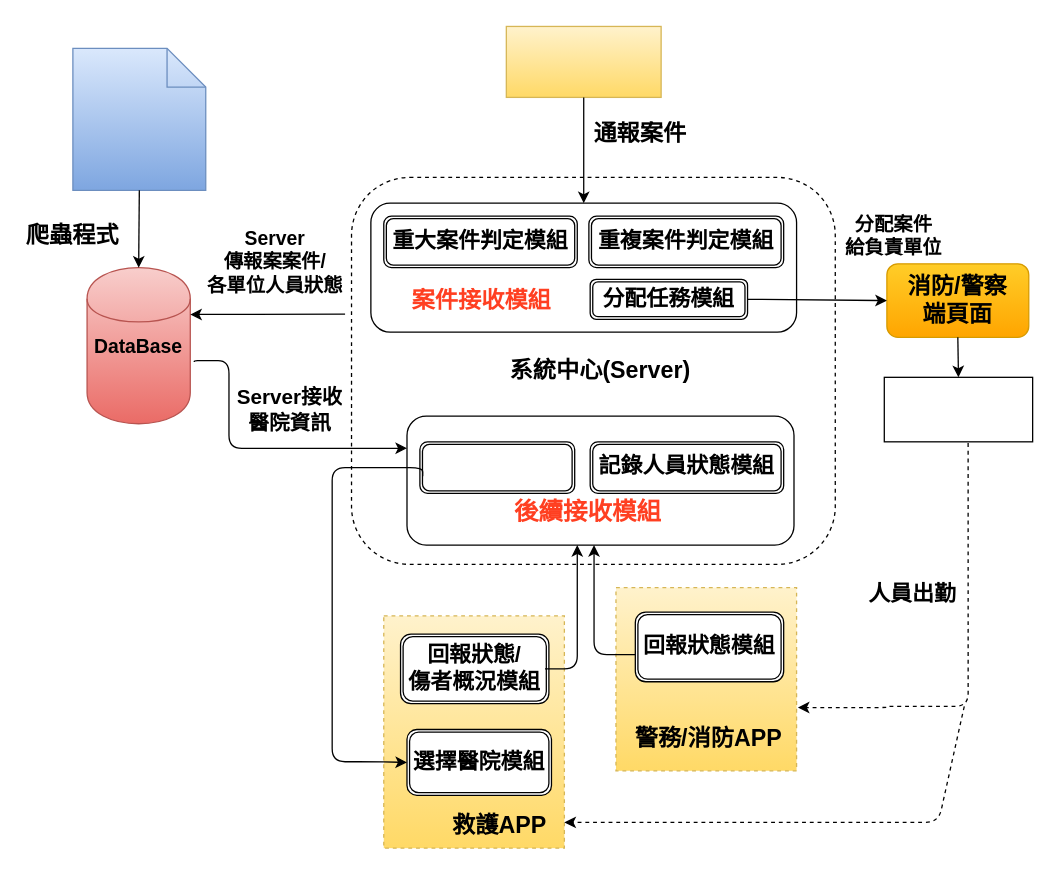
Some shapes in this 1055 by 881 pixel diagram are drawn without their labels. Here are the shapes that lost their labels. From the top down, the centre of each, then its label:
the point at 583,61: 報案APP
the point at 139,118: 台中市17家 責任醫院 病床即時資訊
the point at 958,409: 各分局進行 閒置人員調度
the point at 497,467: 醫院篩選模組
